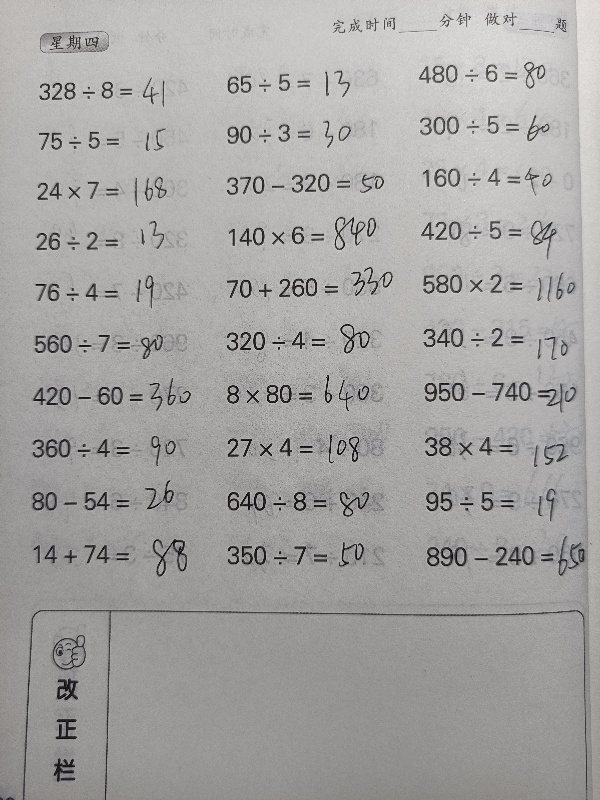equation: (417, 533, 597, 588), (218, 365, 398, 415), (221, 212, 401, 262), (24, 374, 204, 422), (28, 212, 210, 258), (415, 370, 592, 415), (415, 208, 573, 257), (31, 68, 211, 111), (417, 429, 582, 474), (219, 484, 399, 525), (219, 535, 399, 575), (26, 327, 206, 367), (411, 50, 561, 97), (218, 165, 398, 202), (414, 321, 579, 361), (412, 108, 568, 150), (417, 480, 582, 519), (415, 265, 586, 302), (25, 537, 205, 572), (23, 484, 203, 519), (24, 431, 204, 466), (218, 324, 398, 359), (218, 270, 398, 305), (413, 158, 565, 199), (219, 431, 399, 465), (218, 117, 398, 151), (28, 276, 208, 309), (28, 174, 208, 207), (30, 124, 210, 157), (218, 66, 398, 99)
